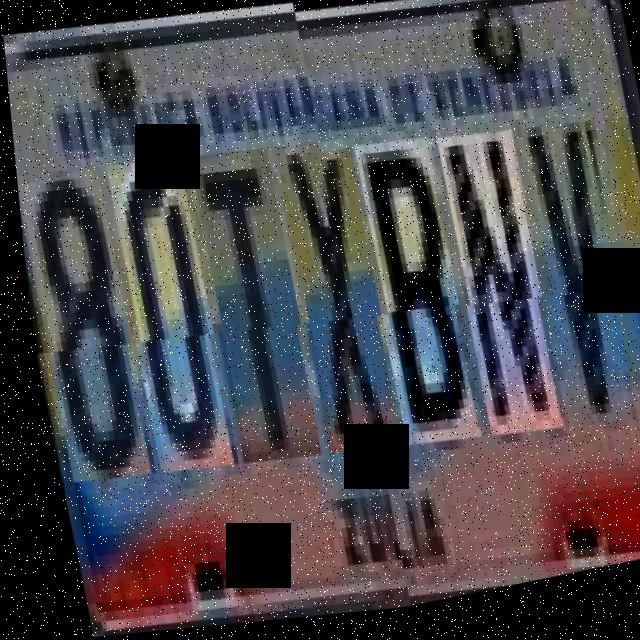0: (101, 159, 233, 489)
8: (14, 167, 150, 499)
B: (349, 132, 478, 452)
N: (430, 122, 560, 442)
T: (183, 149, 320, 481)
V: (512, 106, 634, 433)
X: (271, 140, 402, 470)
